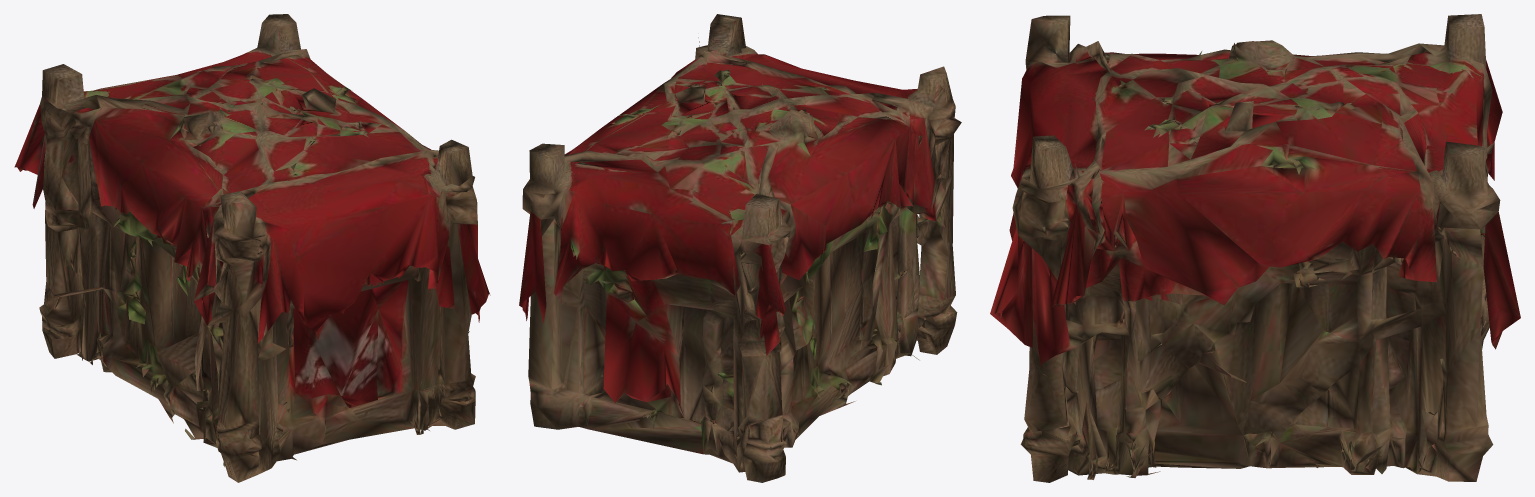
Rendered from AirdropCrate.glb.
3 views of the same model, side by side, from view 1: azimuth 30°, elevation 25°; view 2: azimuth 150°, elevation 25°; view 3: azimuth 270°, elevation 25° (orthographic). The views are drawn at different scales.
Parts seen in each view (by area): view 1: output_unwrapped; view 2: output_unwrapped; view 3: output_unwrapped.
Part boxes in pixels (x1,y1,x2,y2): output_unwrapped: (14,14,490,482); output_unwrapped: (519,14,961,482); output_unwrapped: (990,14,1520,482).
Size of the model in its own units: 1.39 by 1.37 by 1.91.
1 material, 1 textured.
